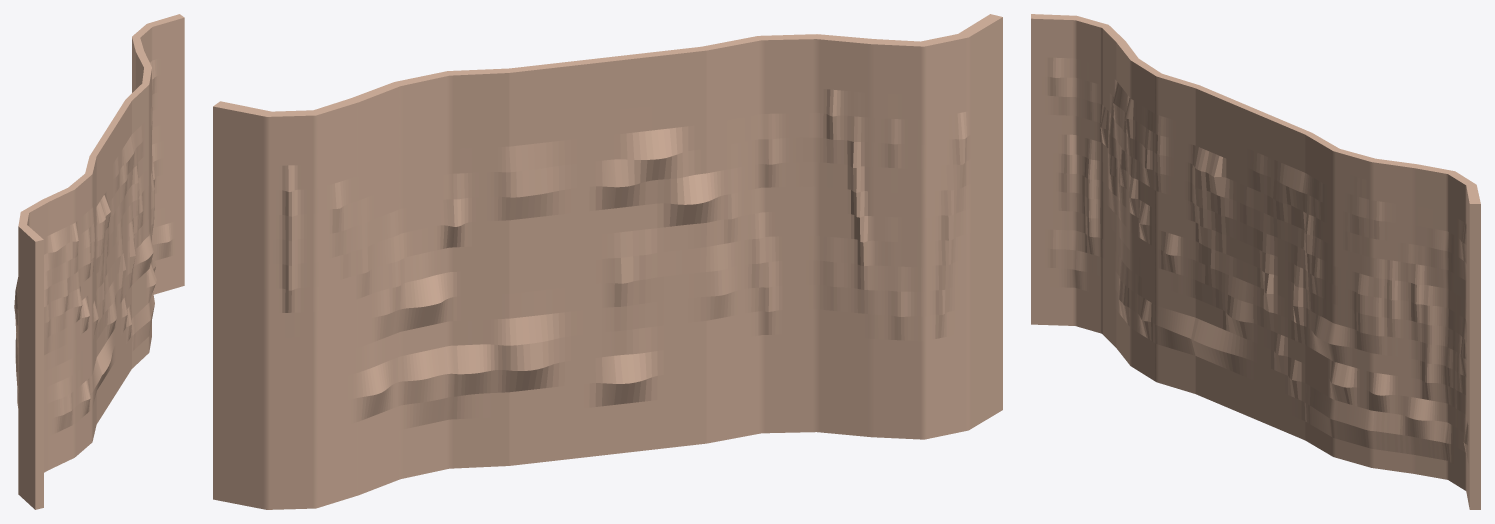
Rendered from structure_walldiagonal.fbx.
3 renders of one model, left to right at view 1: azimuth 30°, elevation 25°; view 2: azimuth 150°, elevation 25°; view 3: azimuth 270°, elevation 25°, orthographic. The views are drawn at different scales.
Visible parts, largest first — view 1: walldiagonal_wall_LOD0; view 2: walldiagonal_wall_LOD0; view 3: walldiagonal_wall_LOD0.
Boxes of the visible parts, left/top/right/bottom form: walldiagonal_wall_LOD0: left=14, top=14, right=184, bottom=509; walldiagonal_wall_LOD0: left=213, top=14, right=1002, bottom=509; walldiagonal_wall_LOD0: left=1031, top=14, right=1480, bottom=509.
Size of what is drawn, in the model's own units: 400 by 300 by 400.
